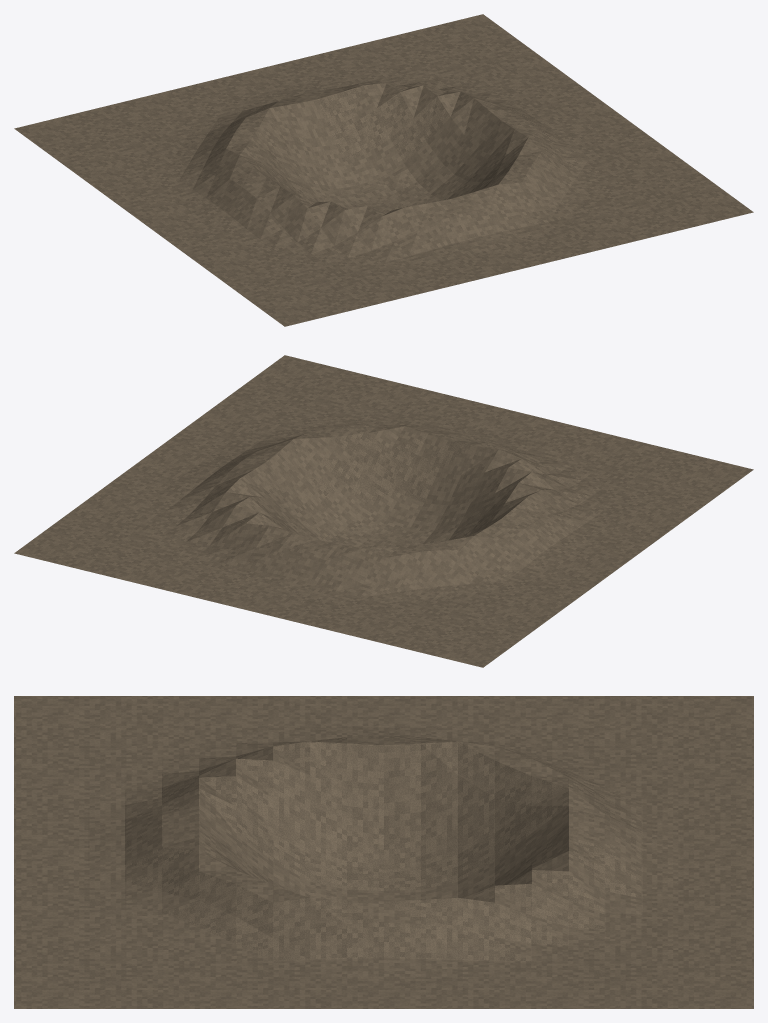
3 views of the same model, one above another, from view 1: azimuth 30°, elevation 25°; view 2: azimuth 150°, elevation 25°; view 3: azimuth 270°, elevation 25° (orthographic). The views are drawn at different scales.
Visible parts, largest first — view 1: ST2-T03_Mesh; view 2: ST2-T03_Mesh; view 3: ST2-T03_Mesh.
Part boxes in pixels (box(x1,y1,x2,y2)): ST2-T03_Mesh: box(14, 14, 753, 326); ST2-T03_Mesh: box(14, 355, 753, 667); ST2-T03_Mesh: box(14, 696, 753, 1008).
Size of the model in its own units: 8 by 1.04 by 8.
Materials: 1 (1 with a texture image).
